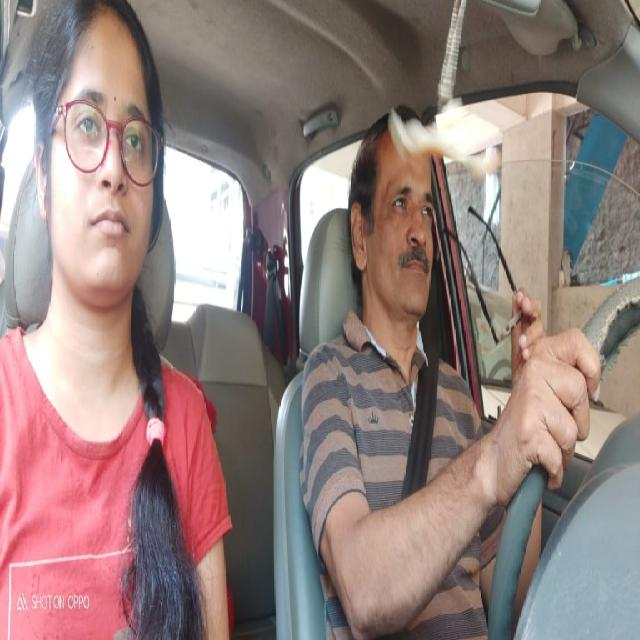person: (34, 0, 170, 340), (350, 94, 446, 355)
